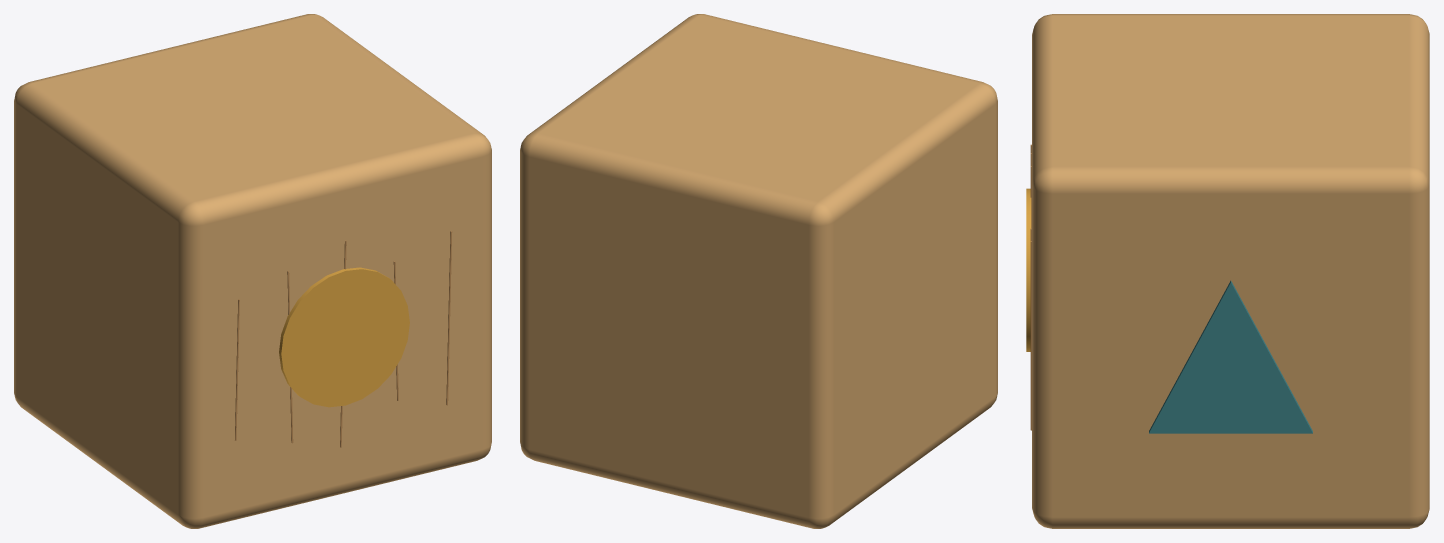
Rendered from source.glb.
3 views of the same model, side by side, from view 1: azimuth 30°, elevation 25°; view 2: azimuth 150°, elevation 25°; view 3: azimuth 270°, elevation 25° (orthographic). The views are drawn at different scales.
Parts seen in each view (by area): view 1: Cube_Wood, Cube_Gold_Disk; view 2: Cube_Wood; view 3: Cube_Wood, Cube_Teal_Triangle, Cube_Gold_Disk.
Boxes of the visible parts, x1=… form: Cube_Wood: x1=14, y1=14, x2=491, y2=528; Cube_Gold_Disk: x1=279, y1=267, x2=409, y2=407; Cube_Wood: x1=520, y1=14, x2=997, y2=528; Cube_Wood: x1=1032, y1=14, x2=1429, y2=528; Cube_Teal_Triangle: x1=1149, y1=280, x2=1312, y2=433; Cube_Gold_Disk: x1=1026, y1=188, x2=1031, y2=351.
Size of the model in its own units: 0.1583 by 0.155 by 0.1573.
